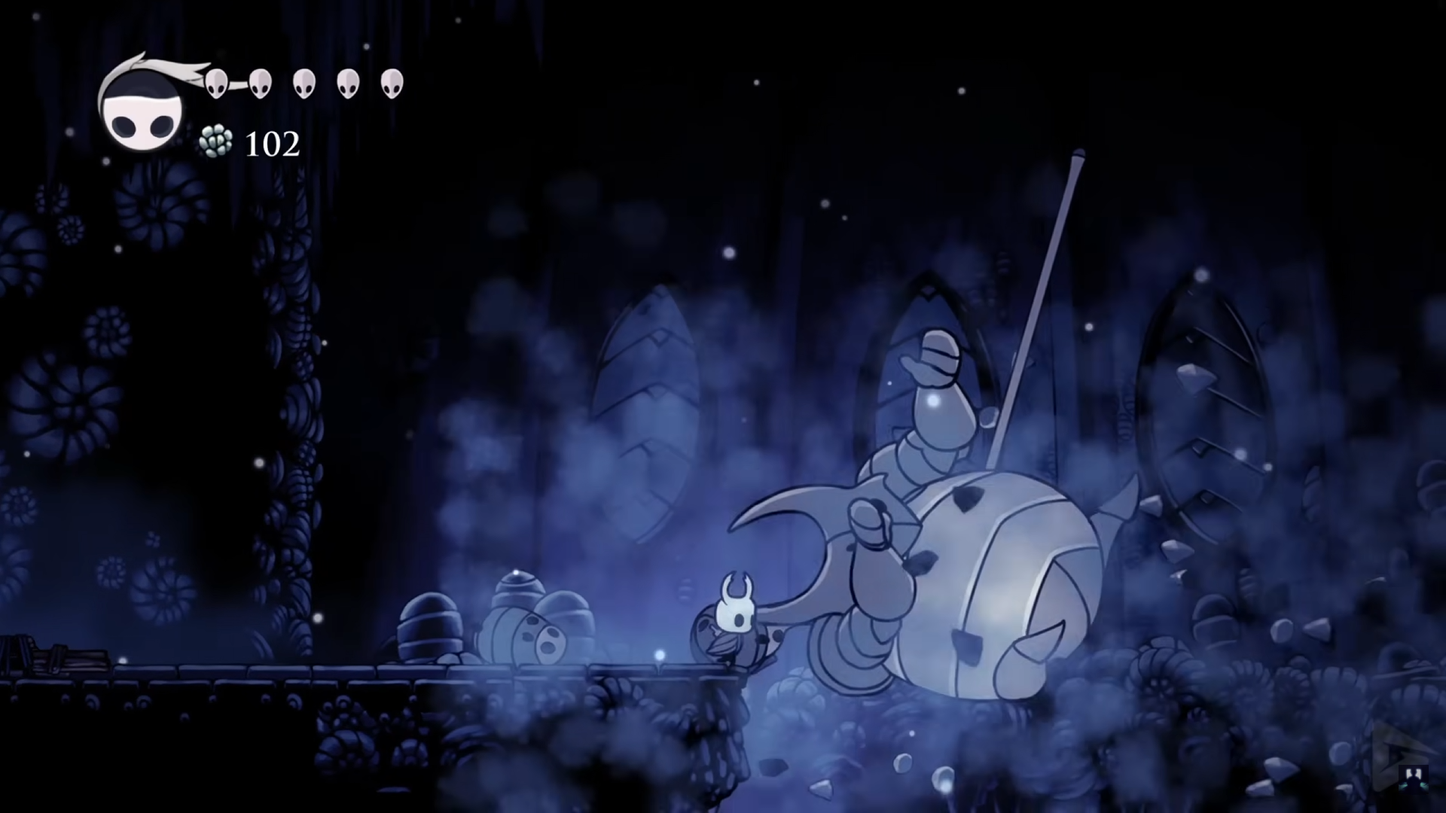HK: (697, 567, 762, 672)
